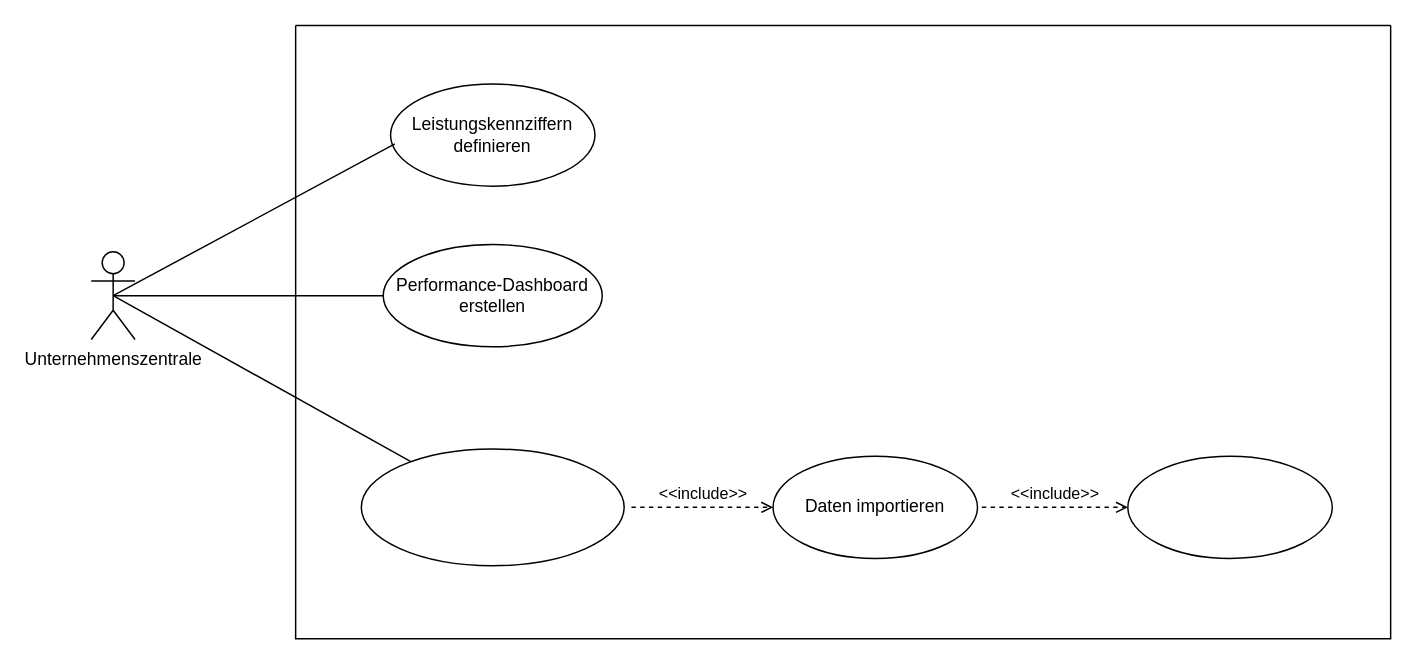
This 1416x664 diagram has some shape labels left out. Each missing label, with the box of its shape:
Daten exportieren: (1126, 455, 1332, 558)
Leistungskennziffern der einzelnen Mietstationen auswerten: (360, 447, 624, 566)
